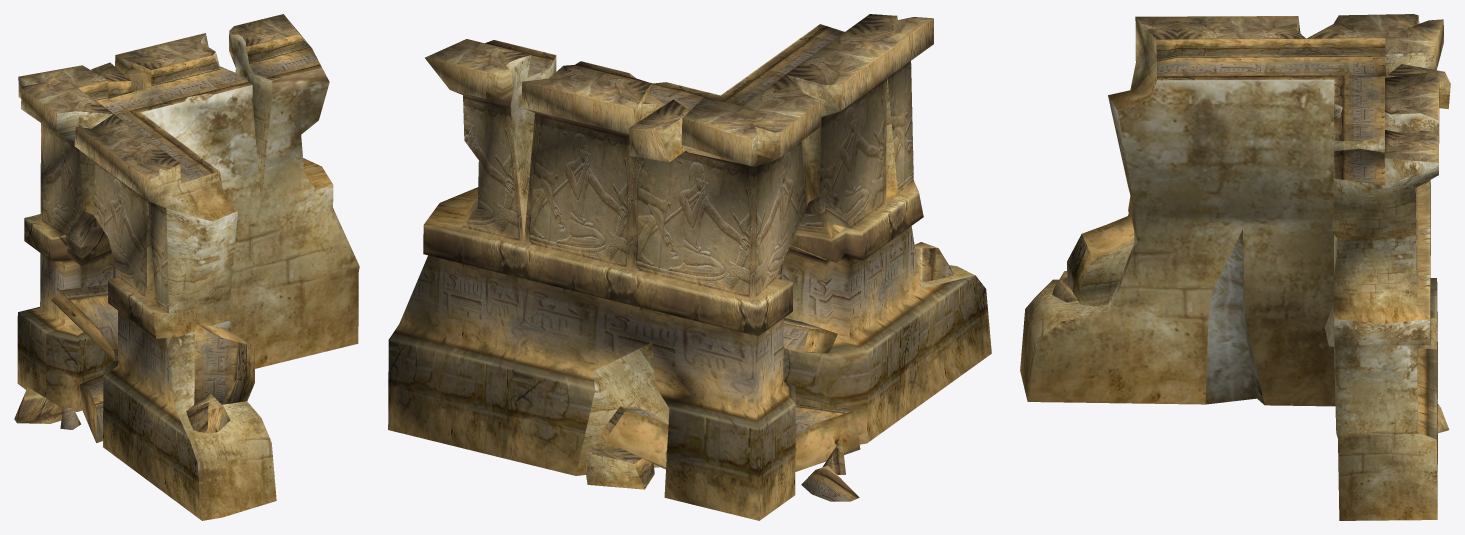
The model's file is S_Build_Desert029.FBX.
3 renders of one model, left to right at view 1: azimuth 30°, elevation 25°; view 2: azimuth 150°, elevation 25°; view 3: azimuth 270°, elevation 25°, orthographic. The views are drawn at different scales.
Visible parts, largest first — view 1: S_Build_Desert029; view 2: S_Build_Desert029; view 3: S_Build_Desert029.
Boxes of the visible parts, x1,y1,x2,y2 form: S_Build_Desert029: (14, 14, 359, 520); S_Build_Desert029: (388, 14, 991, 520); S_Build_Desert029: (1020, 14, 1450, 520).
Size of the model in its own units: 711 by 703 by 618.
Materials: 2 (2 with a texture image).
